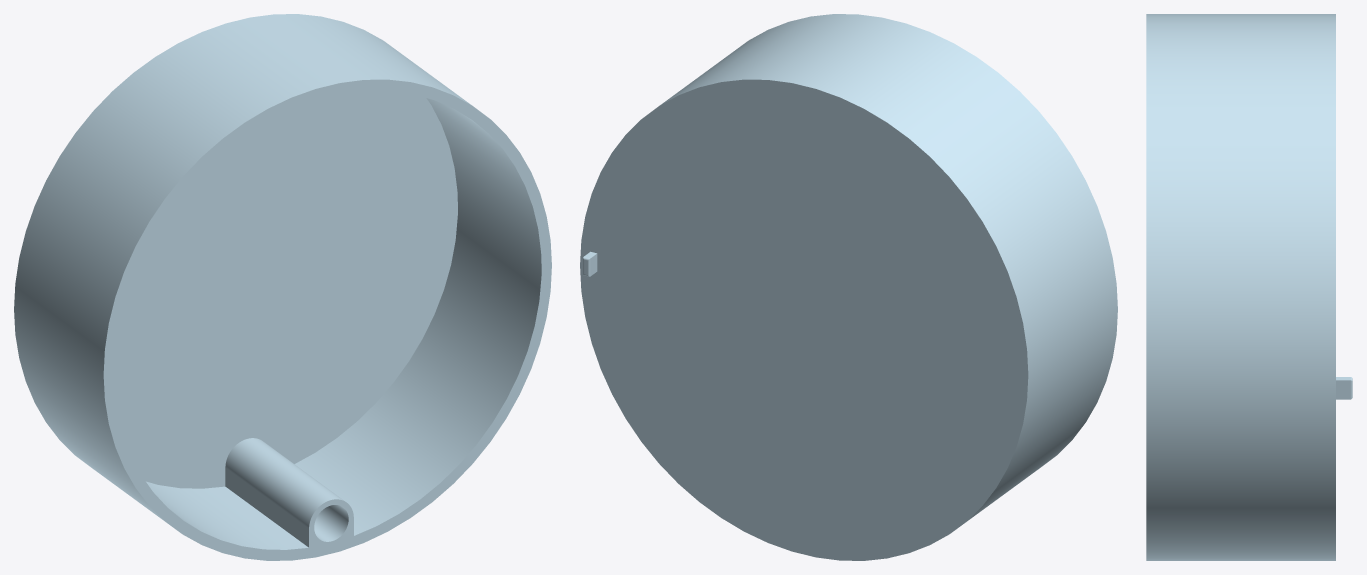
File: drawer.gltf
The picture shows the model from 3 angles, left to right: view 1: azimuth 30°, elevation 25°; view 2: azimuth 150°, elevation 25°; view 3: azimuth 270°, elevation 25°; orthographic projection. The views are drawn at different scales.
Visible parts, largest first — view 1: Drawer; view 2: Drawer; view 3: Drawer.
Boxes of the visible parts, left/top/right/bottom form: Drawer: left=14, top=14, right=551, bottom=560; Drawer: left=580, top=14, right=1117, bottom=560; Drawer: left=1146, top=14, right=1352, bottom=560.
Bounding box in the file's own units: 0.13 × 0.1298 × 0.049.
